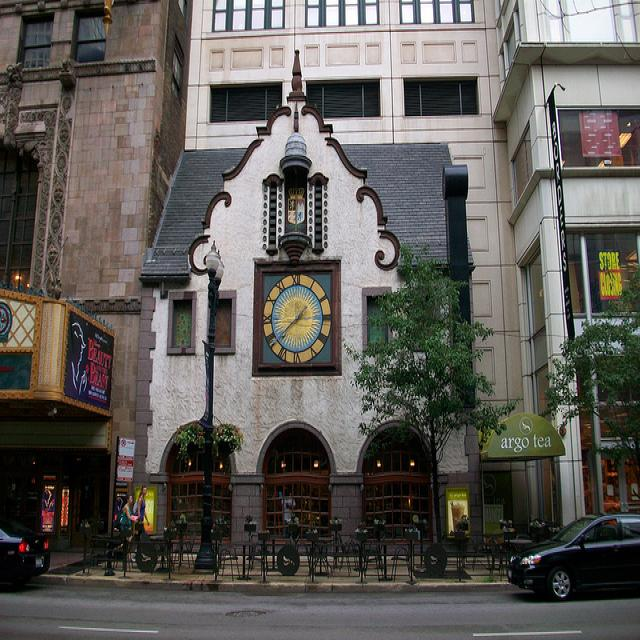Vehicle: (507, 513, 640, 600), (0, 524, 53, 578)
